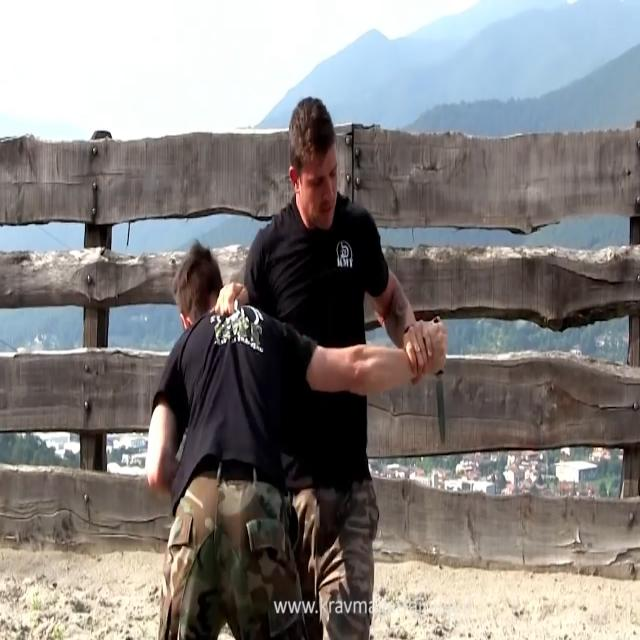knife: (433, 370, 451, 450)
